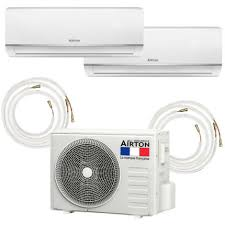ac: (82, 25, 224, 81), (4, 5, 147, 59)
